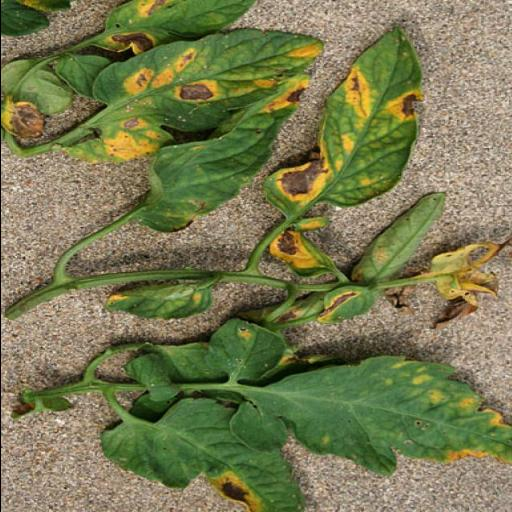Early Blight: (262, 24, 424, 224), (92, 28, 326, 162), (100, 398, 310, 510), (92, 0, 262, 54), (266, 227, 337, 280)
